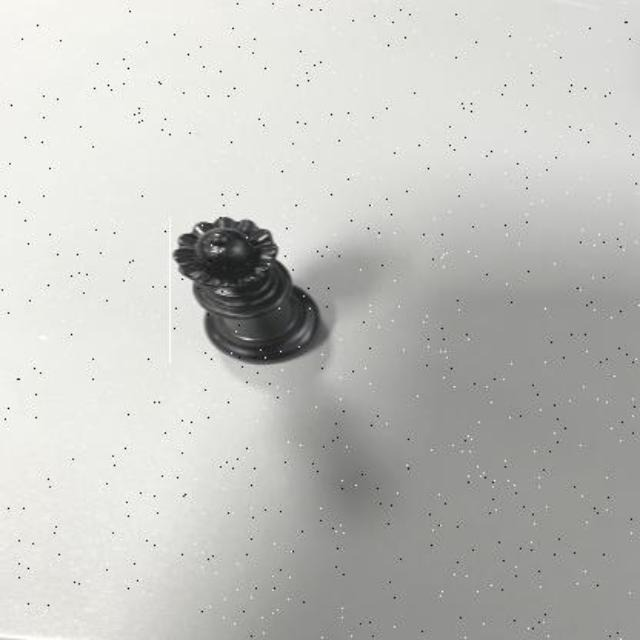black-queen: (169, 217, 324, 364)
